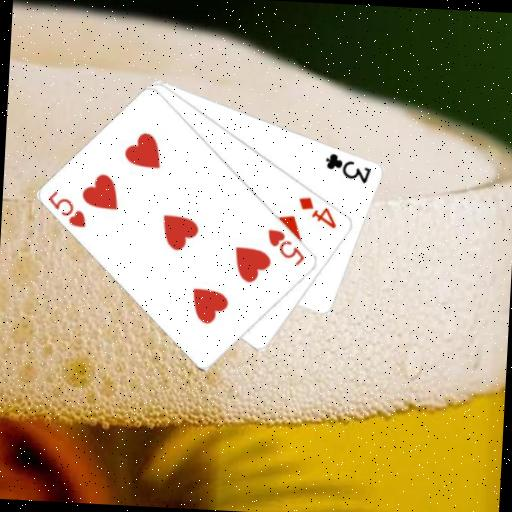3C: (322, 149, 374, 185)
4D: (295, 193, 341, 231)
5H: (263, 226, 309, 268), (44, 188, 90, 230)
